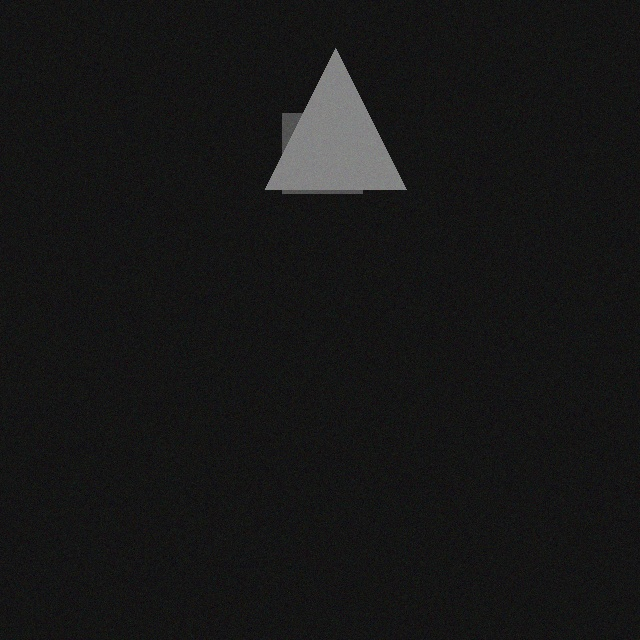square: (280, 117, 360, 197)
triangle: (263, 52, 404, 193)
